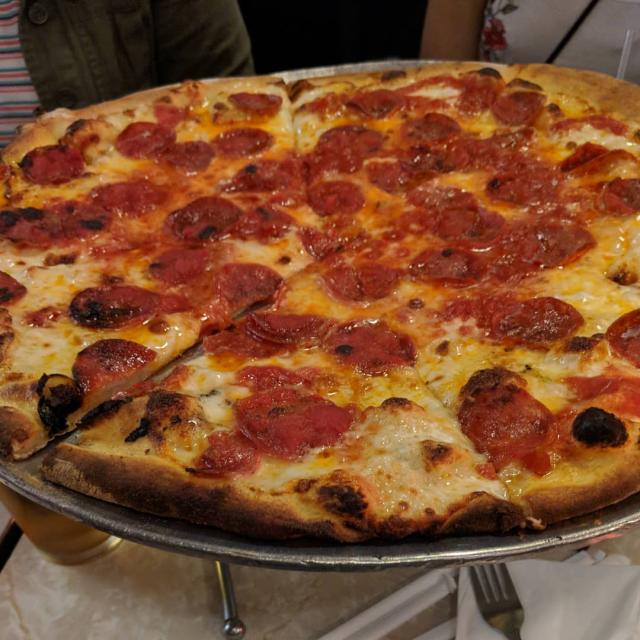pepperoni: (442, 294, 584, 346), (399, 134, 529, 187), (407, 185, 505, 243), (260, 389, 353, 447), (324, 320, 415, 374), (305, 125, 384, 181), (69, 285, 160, 329), (215, 262, 284, 316), (164, 196, 242, 241), (322, 262, 402, 300), (486, 168, 565, 206), (194, 429, 260, 474), (90, 179, 169, 216), (534, 221, 595, 268), (245, 312, 335, 343), (220, 159, 303, 192), (560, 141, 636, 176), (507, 215, 558, 266), (410, 248, 486, 282), (18, 145, 84, 183), (115, 121, 176, 159), (231, 206, 294, 242), (458, 67, 505, 115), (149, 249, 210, 285), (307, 181, 365, 216), (212, 128, 274, 158), (400, 112, 461, 142), (492, 91, 544, 126), (159, 141, 215, 172), (348, 89, 406, 118), (297, 226, 344, 260), (229, 92, 282, 116), (607, 177, 640, 209), (584, 115, 629, 136)
pizza: (0, 64, 640, 541)
